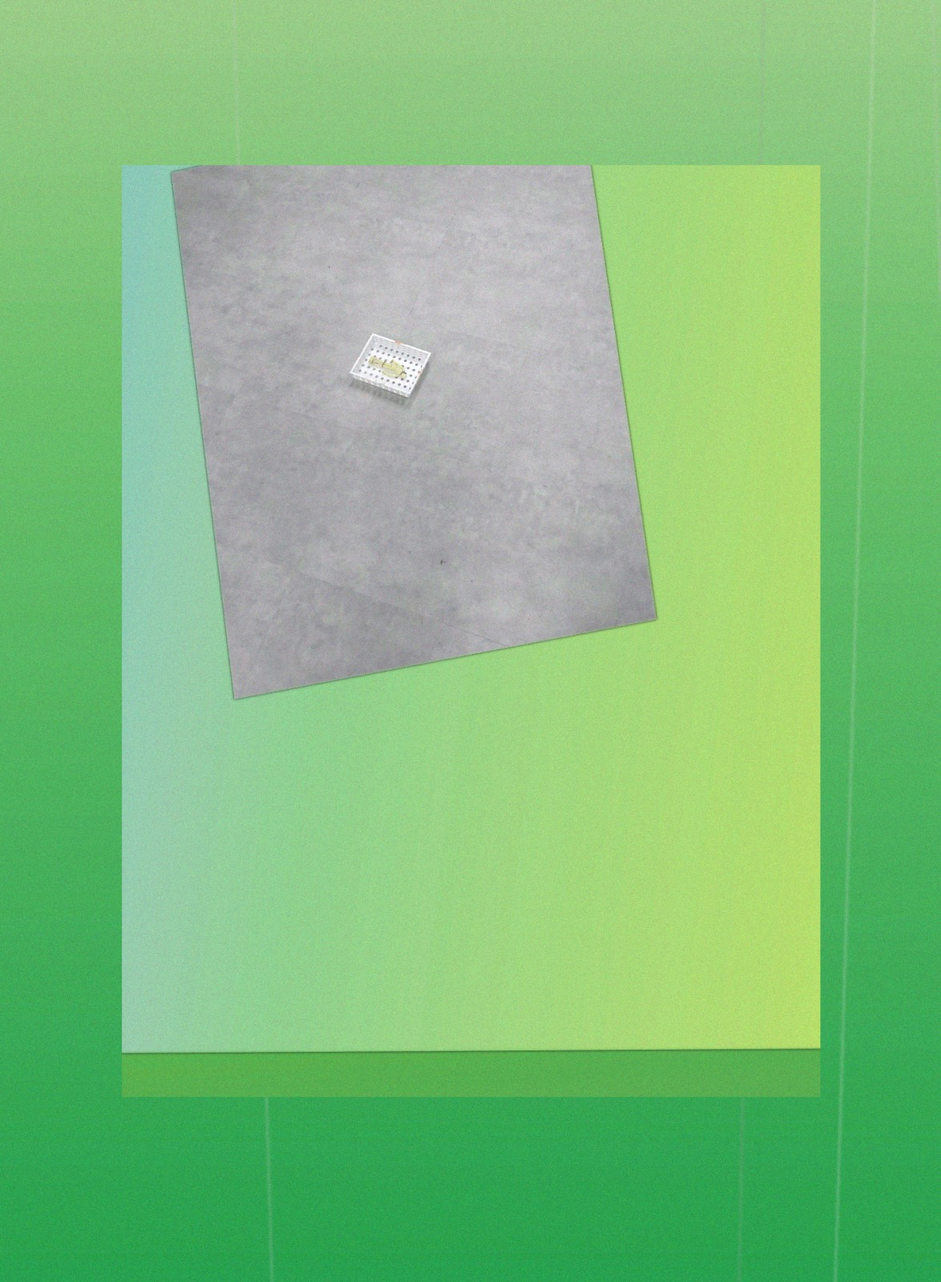basket: (348, 331, 433, 401)
mannequin: (368, 355, 408, 380)
